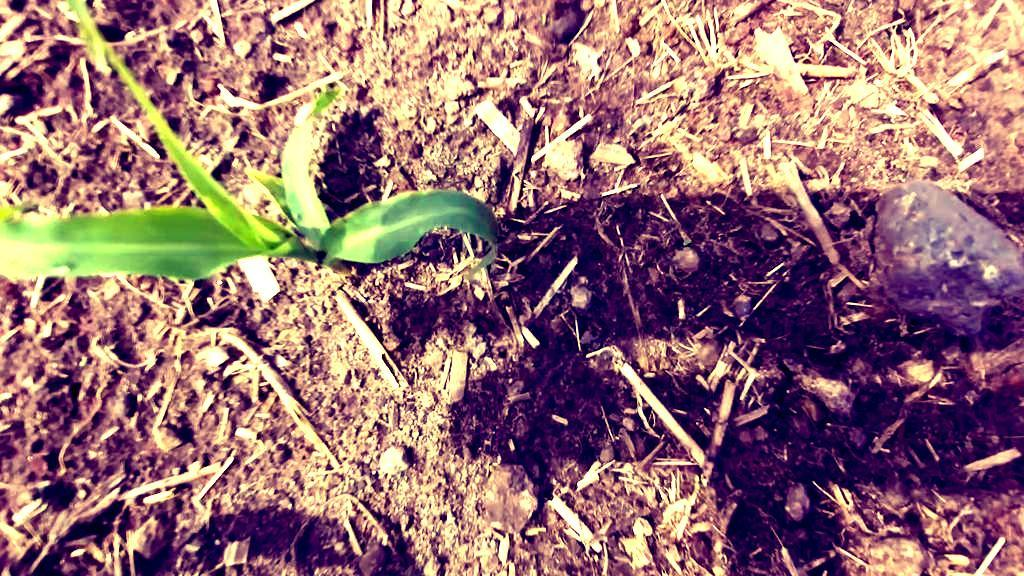BroWeed: (801, 400, 818, 423), (828, 45, 848, 63), (522, 524, 547, 537), (813, 42, 825, 60), (700, 473, 710, 488), (680, 236, 694, 246), (487, 461, 497, 474), (693, 474, 701, 490), (495, 454, 503, 464)
Maize: (0, 41, 504, 280)
